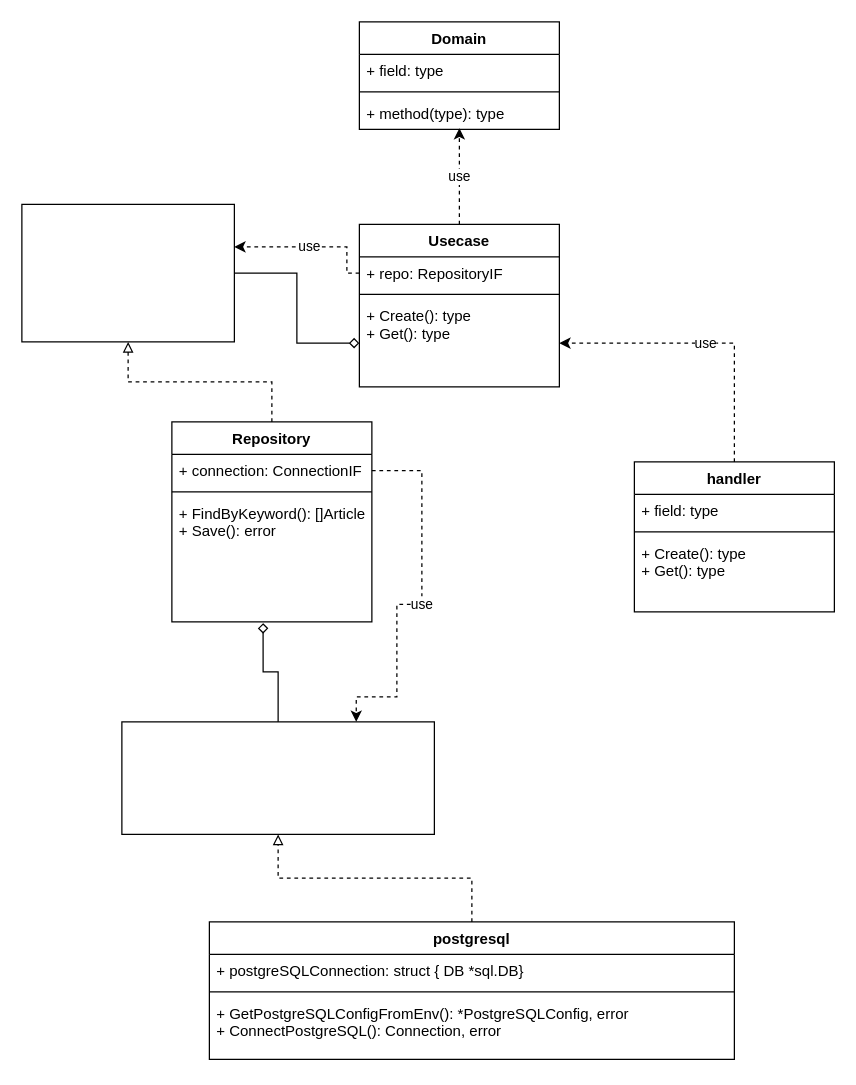
Some shapes in this 856 by 1085 pixel diagram are drawn without their labels. The centre of each missing label's shape, as x and y in pixels:
"«interface» ConnectionIF + GetDB(): *sql.DB + Close(): error" goes at pixel 277 777.
"«interface» RepositoryIF + FindByKeyword(): []Article + Save(): error" goes at pixel 127 272.
